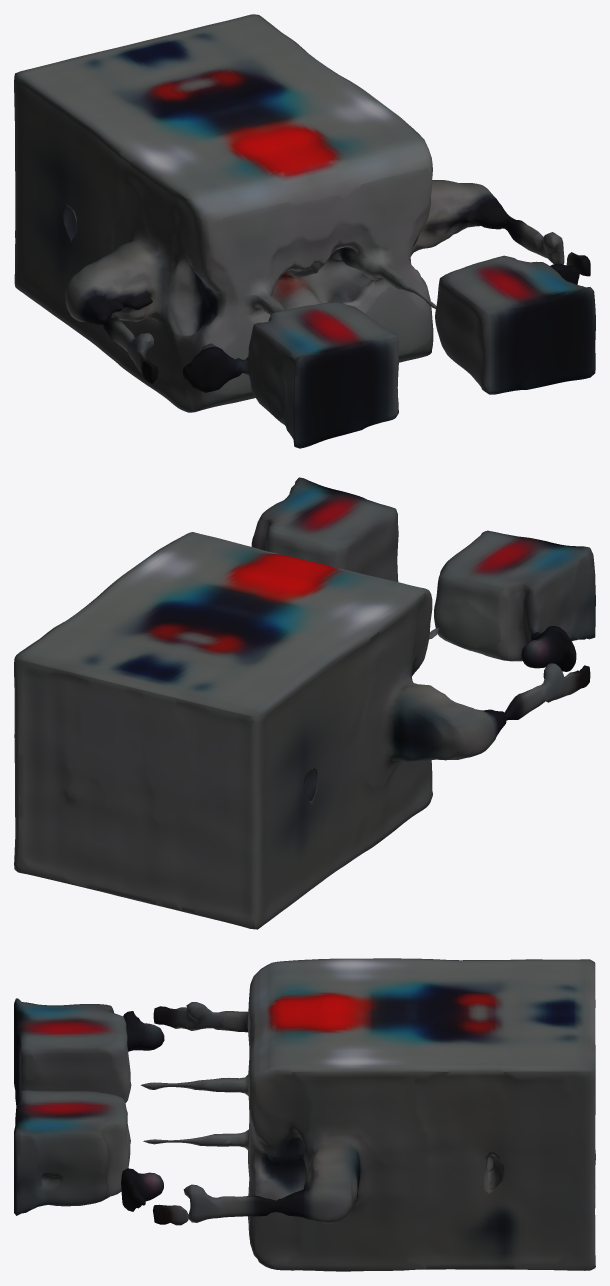
3 renders of one model, top to bottom at view 1: azimuth 30°, elevation 25°; view 2: azimuth 150°, elevation 25°; view 3: azimuth 270°, elevation 25°, orthographic. The views are drawn at different scales.
Visible parts, largest first — view 1: plyFile; view 2: plyFile; view 3: plyFile.
Part boxes in pixels (x1=…): plyFile: x1=14, y1=14, x2=595, y2=448; plyFile: x1=14, y1=477, x2=595, y2=929; plyFile: x1=14, y1=958, x2=595, y2=1271.
Size of the model in its own units: 138 by 66.91 by 170.
